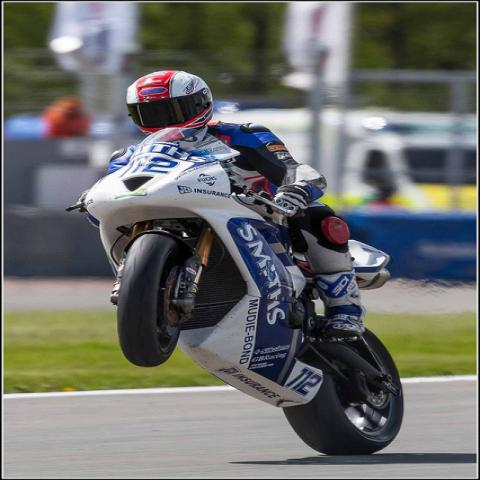motorcycle: (52, 119, 426, 453)
truck: (214, 110, 479, 216)
